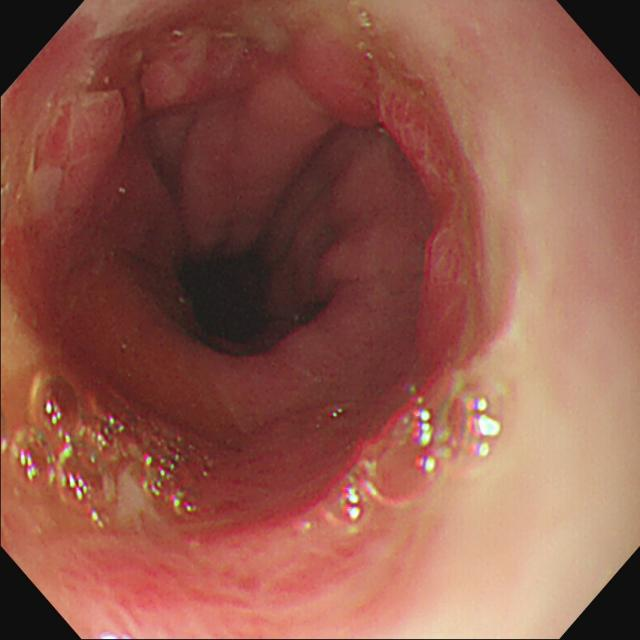A: (375, 80, 467, 205), (39, 88, 124, 202), (286, 32, 374, 132), (137, 34, 246, 114)
E: (186, 254, 277, 343)
T: (12, 374, 199, 526), (317, 377, 505, 526)
